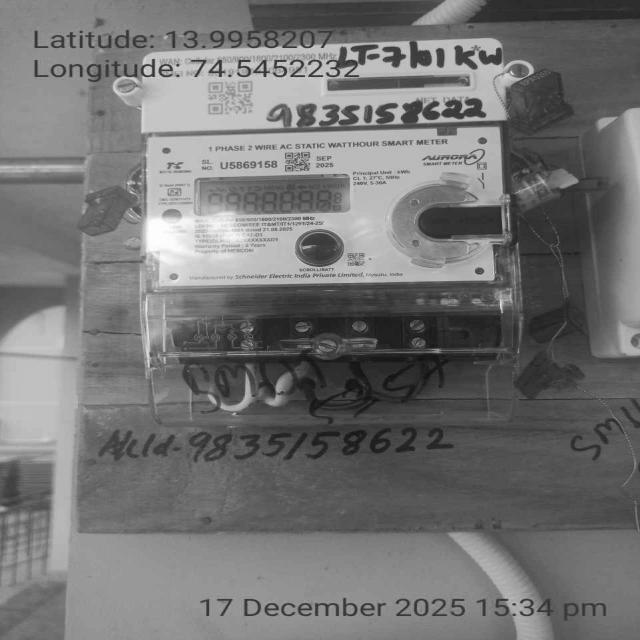meter: (147, 38, 503, 287)
